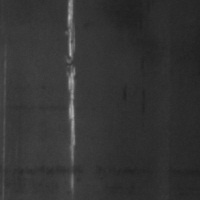scratches: (62, 0, 81, 194)
